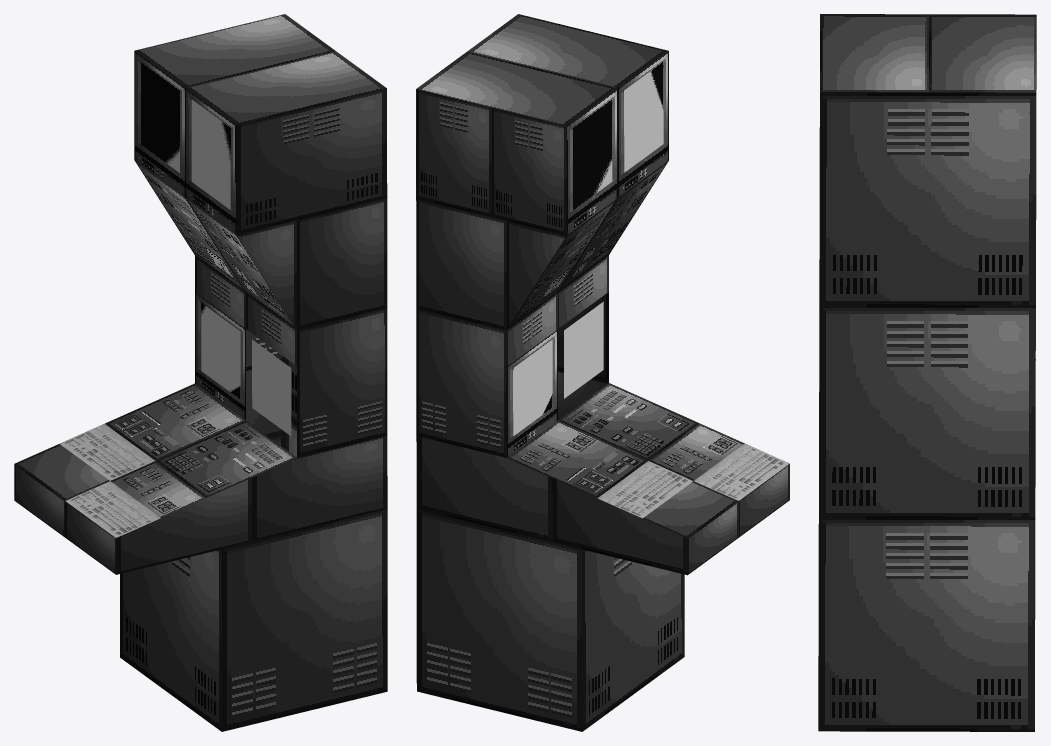
The model's file is console_7.glb.
3 renders of one model, left to right at view 1: azimuth 30°, elevation 25°; view 2: azimuth 150°, elevation 25°; view 3: azimuth 270°, elevation 25°, orthographic. The views are drawn at different scales.
Visible parts, largest first — view 1: Object; view 2: Object; view 3: Object.
Part boxes in pixels (x1,y1,x2,y2): Object: (14,14,387,731); Object: (416,14,789,731); Object: (818,14,1036,731).
Bounding box in the file's own units: 1.44 × 3.05 × 0.9429.
26 materials, 26 textured.
